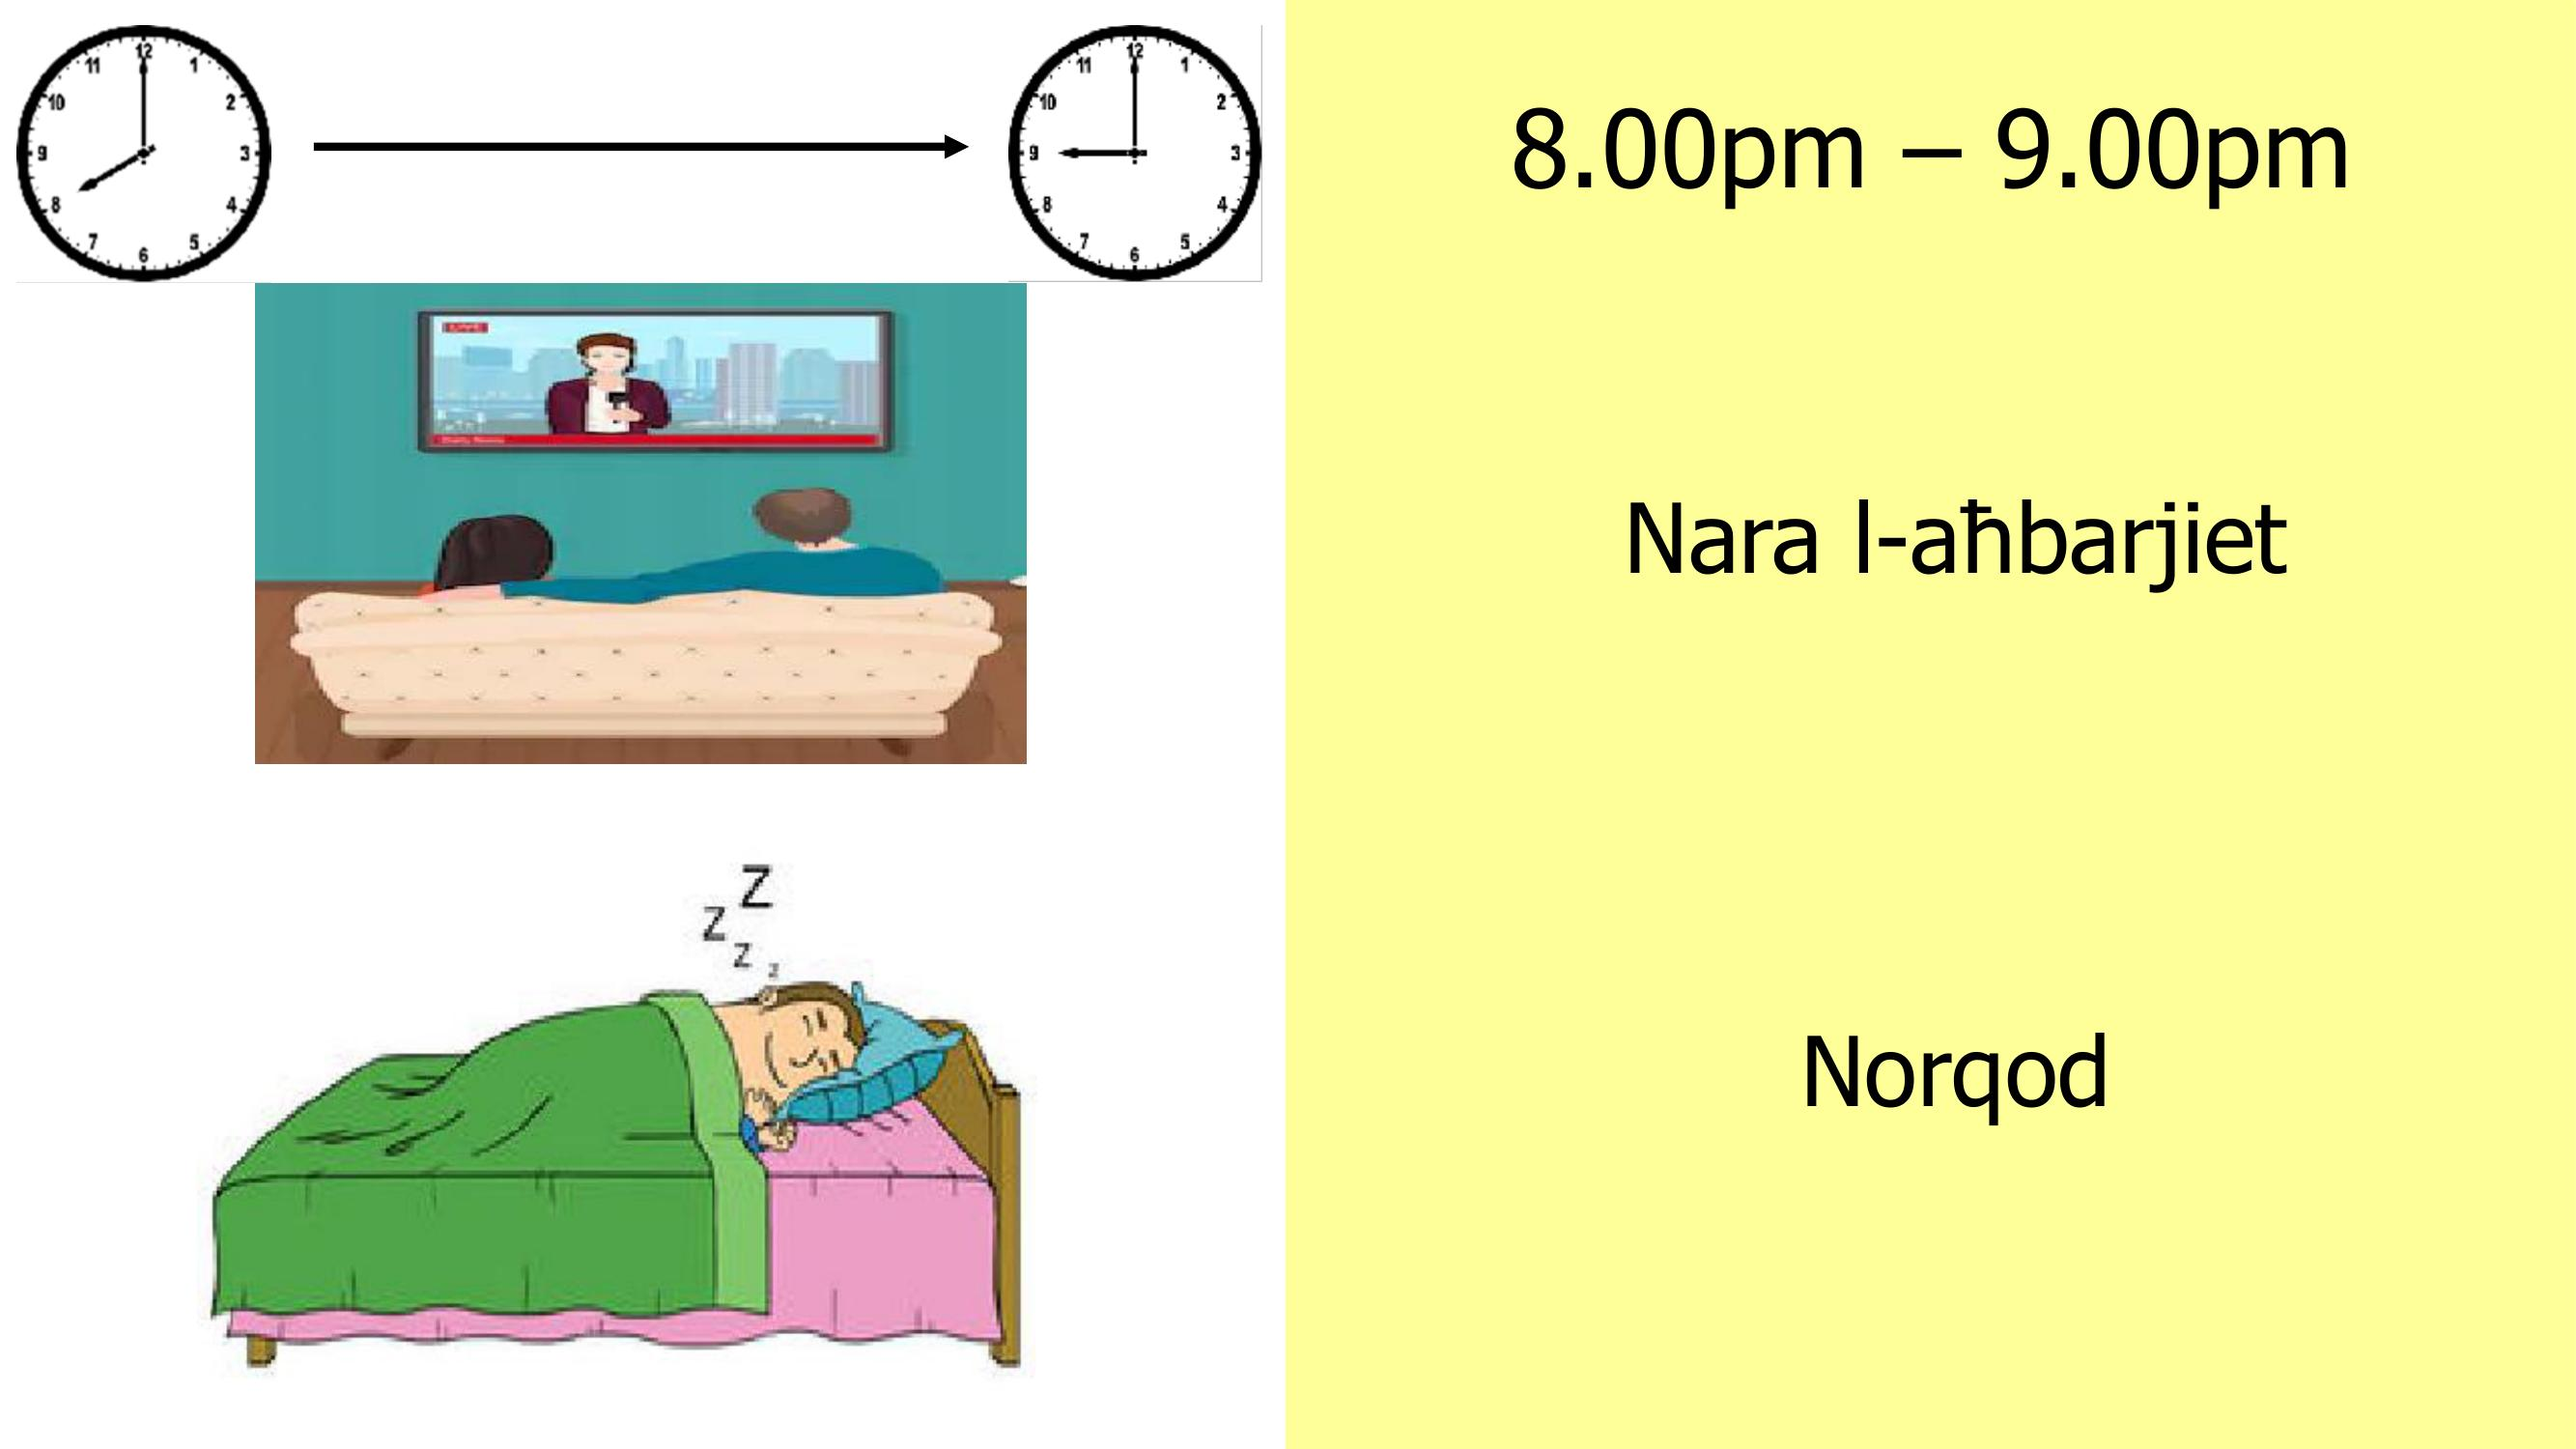text: (1580, 446, 2325, 1191)
